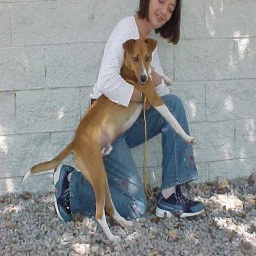dog: (25, 35, 197, 241)
